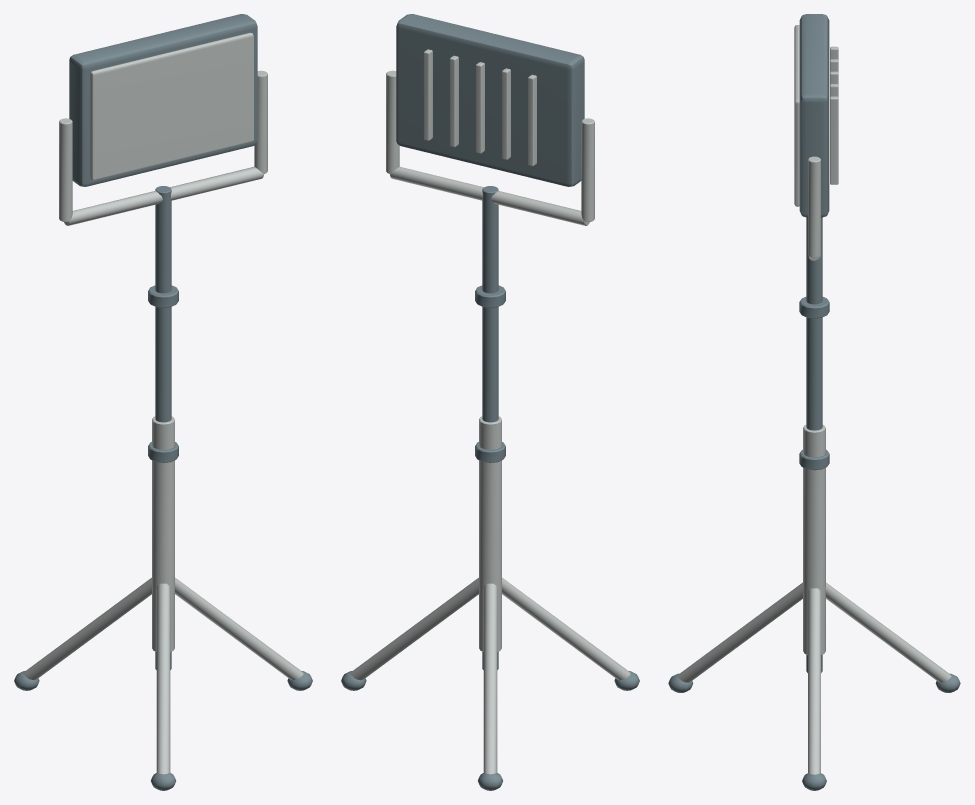
File: led-panel.glb
3 views of the same model, side by side, from view 1: azimuth 30°, elevation 25°; view 2: azimuth 150°, elevation 25°; view 3: azimuth 270°, elevation 25° (orthographic). The views are drawn at different scales.
Visible parts, largest first — view 1: diffusion_panel, panel_back, lower_stand, telescoping_stand, tripod_leg_1, yoke_base, tripod_leg_0, tripod_leg_2, yoke_side, yoke_side.001, stand_lock.001; view 2: panel_back, lower_stand, telescoping_stand, tripod_leg_2, yoke_base, tripod_leg_0, tripod_leg_1, yoke_side, yoke_side.001, rear_cooling_fin.003, rear_cooling_fin.001, rear_cooling_fin.002 (+3 smaller); view 3: panel_back, lower_stand, telescoping_stand, tripod_leg_0, tripod_leg_1, tripod_leg_2, yoke_side.001, diffusion_panel, rear_cooling_fin.004.
Part boxes in pixels (box(x1,y1,x2,y2)): diffusion_panel: box(90, 32, 253, 180); panel_back: box(69, 14, 257, 186); lower_stand: box(152, 416, 174, 651); telescoping_stand: box(155, 186, 171, 669); tripod_leg_1: box(156, 583, 170, 774); yoke_base: box(64, 166, 263, 225); tripod_leg_0: box(174, 577, 303, 680); tripod_leg_2: box(23, 577, 152, 680); yoke_side: box(59, 118, 72, 221); yoke_side.001: box(254, 70, 267, 173); stand_lock.001: box(148, 285, 178, 307); panel_back: box(396, 14, 584, 186); lower_stand: box(479, 416, 501, 651); telescoping_stand: box(482, 186, 498, 669); tripod_leg_2: box(483, 583, 497, 774); yoke_base: box(390, 166, 589, 225); tripod_leg_0: box(350, 577, 479, 680); tripod_leg_1: box(501, 577, 630, 680); yoke_side: box(581, 118, 594, 221); yoke_side.001: box(386, 70, 399, 173); rear_cooling_fin.003: box(449, 55, 458, 147); rear_cooling_fin.001: box(501, 68, 510, 159); rear_cooling_fin.002: box(475, 62, 484, 153); panel_back: box(799, 14, 829, 217); lower_stand: box(803, 425, 825, 654); telescoping_stand: box(806, 217, 822, 672); tripod_leg_0: box(808, 588, 820, 774); tripod_leg_1: box(677, 582, 803, 682); tripod_leg_2: box(825, 582, 951, 682); yoke_side.001: box(808, 156, 820, 257); diffusion_panel: box(794, 25, 799, 206); rear_cooling_fin.004: box(830, 96, 838, 184).
Size of the model in its own units: 0.772 by 2.01 by 0.7955.
